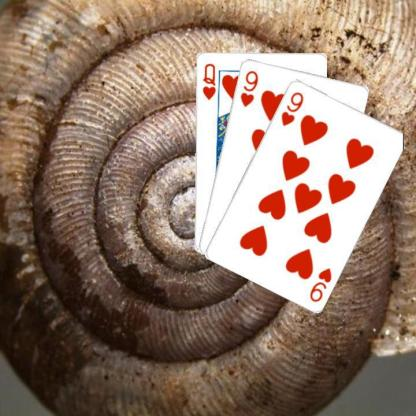9H: (278, 89, 305, 127), (307, 265, 333, 303), (238, 68, 260, 108)
QH: (199, 60, 217, 101)
